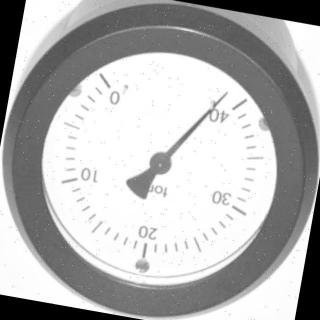gauge: (2, 0, 320, 320), (219, 83, 259, 123), (85, 62, 127, 99), (145, 148, 175, 178), (215, 85, 232, 105)
